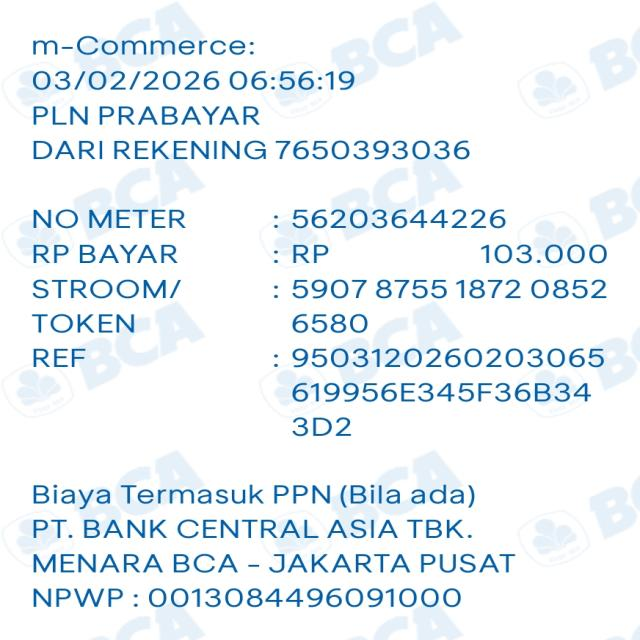date: (21, 67, 358, 99)
store: (27, 99, 267, 134)
total: (286, 238, 622, 268)
